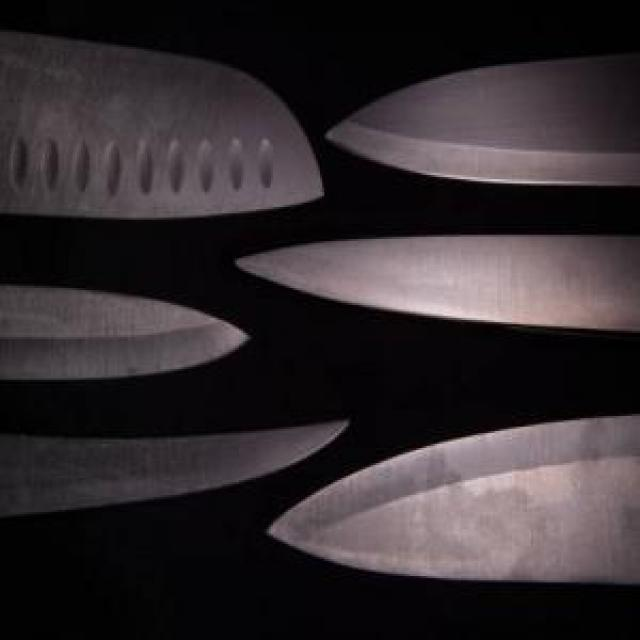knife: (271, 403, 638, 595), (0, 30, 320, 241), (241, 213, 639, 335), (324, 45, 640, 193), (0, 422, 361, 527), (2, 262, 248, 401)
